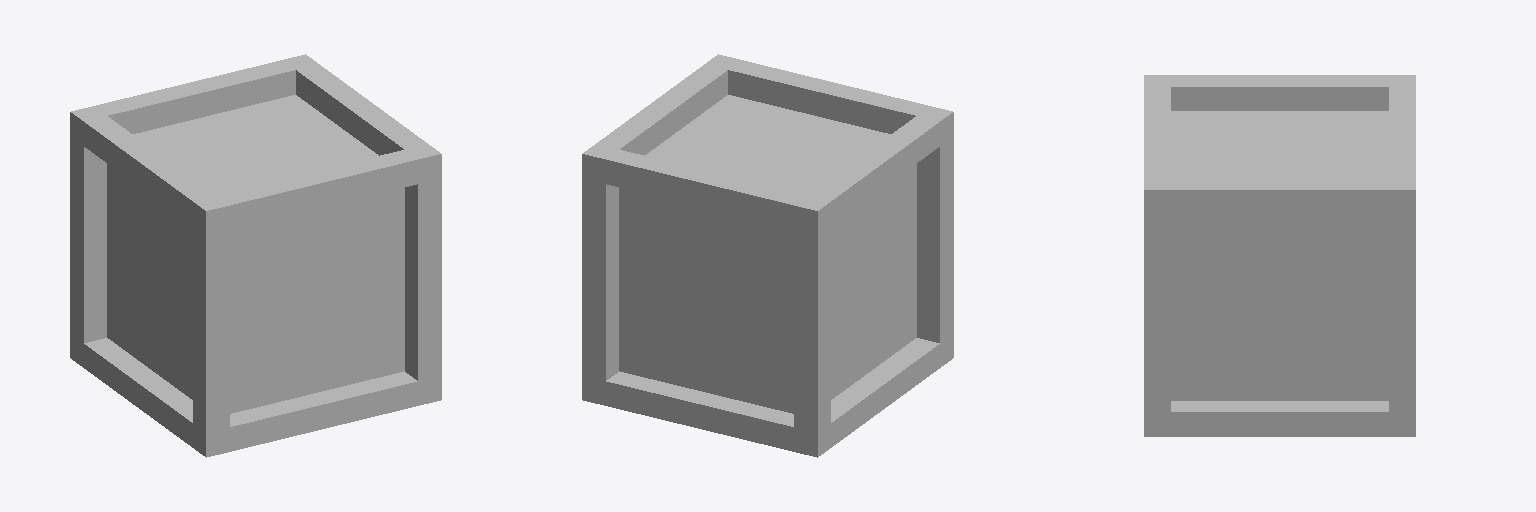
Rendered from superchest.obj.
3 renders of one model, left to right at view 1: azimuth 30°, elevation 25°; view 2: azimuth 150°, elevation 25°; view 3: azimuth 270°, elevation 25°, orthographic.
Visible parts, largest first — view 1: Cube.001_Cube.000; view 2: Cube.001_Cube.000; view 3: Cube.001_Cube.000.
Part boxes in pixels (x1,y1,x2,y2): Cube.001_Cube.000: (70,54,441,457); Cube.001_Cube.000: (582,54,953,457); Cube.001_Cube.000: (1144,75,1415,436).
Bounding box in the file's own units: 2 × 2 × 2.